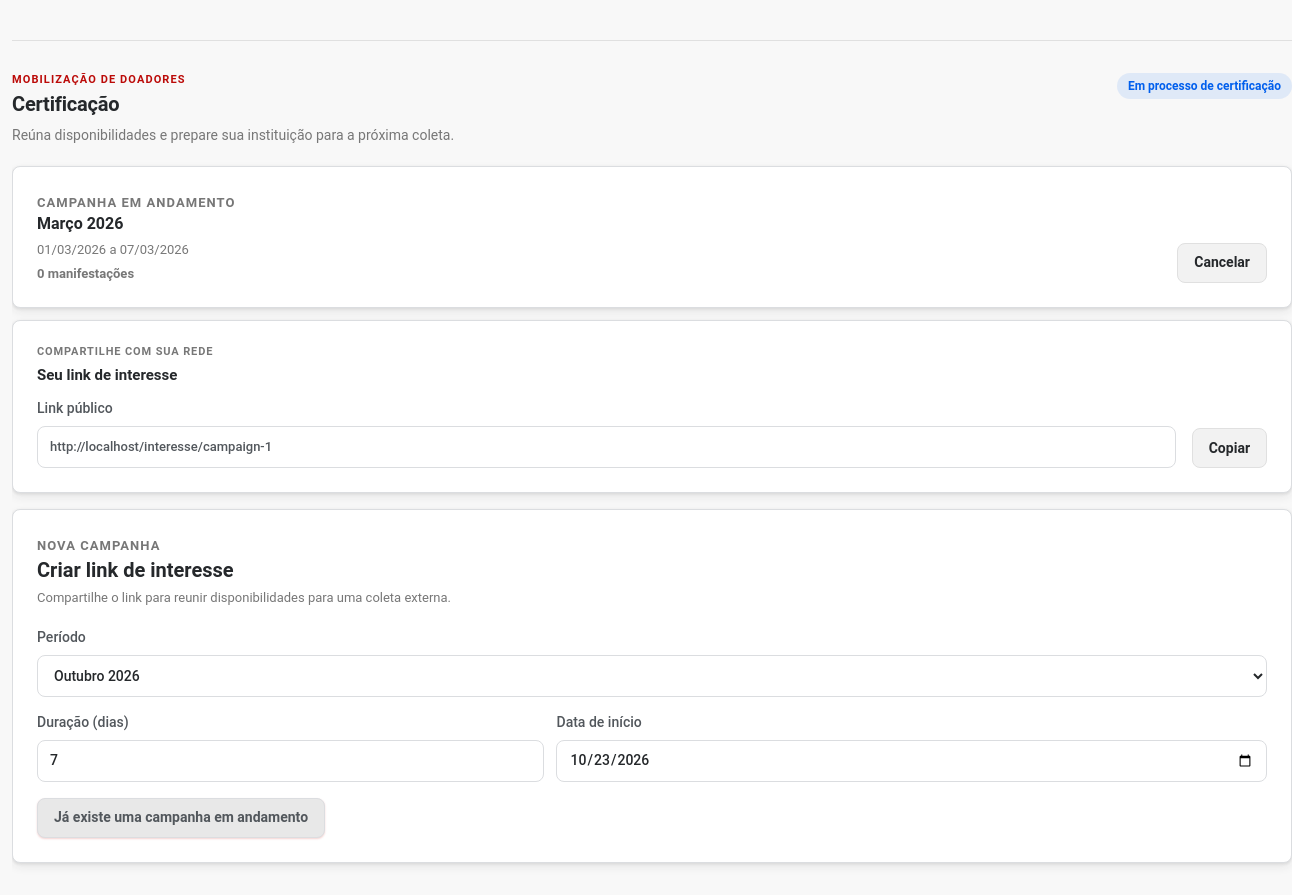
Test: CertificationSection › clears the active campaign and re-enables the create button after cancelling
The image size is (1292, 895).
Expected: the submit button is disabled, [37,798,325,838]
Click the button "Cancelar" at {"x": 1222, "y": 263}, box [1177,243,1267,283]
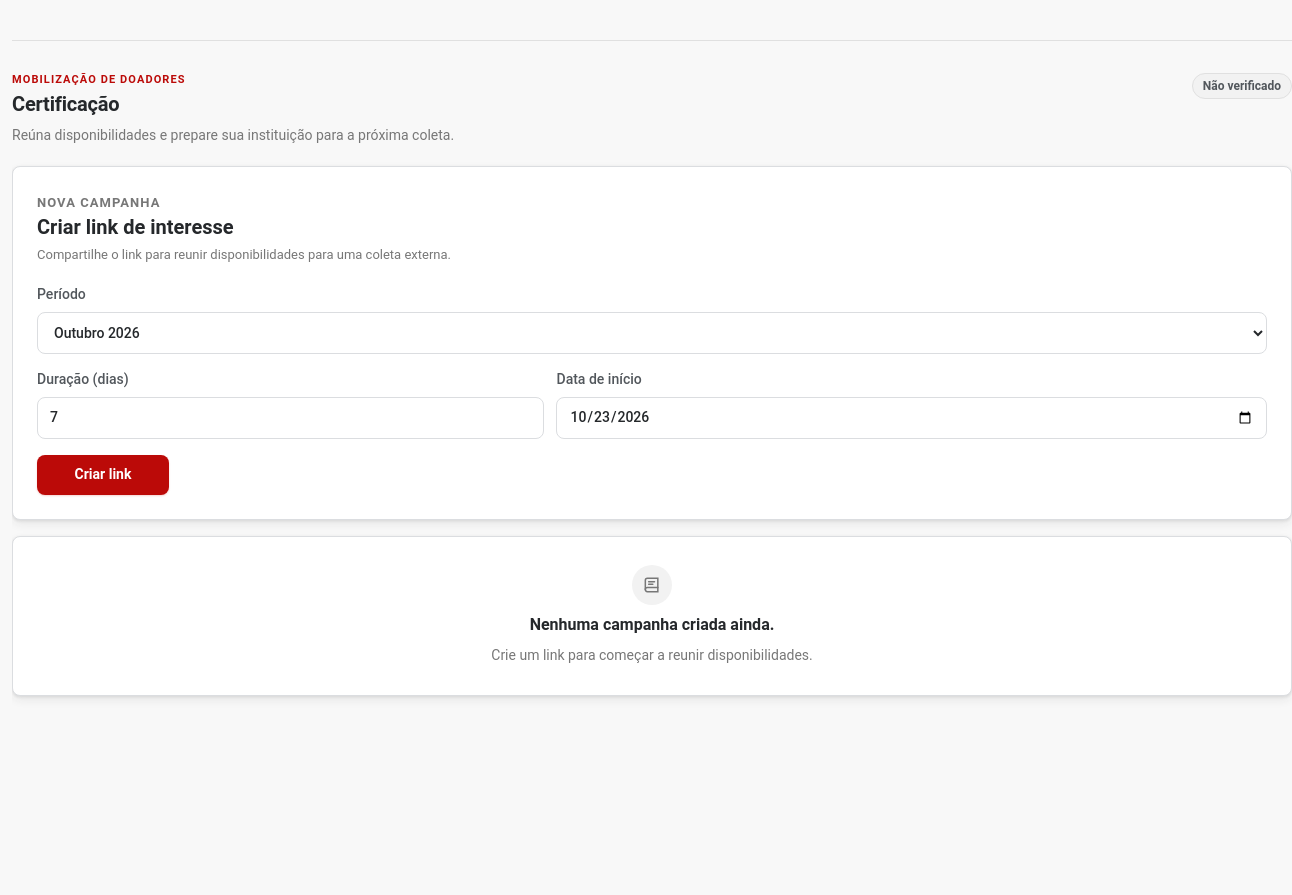
Expected: the submit button is enabled, [37,455,169,495]
Expected: the submit button reads "Criar link", [37,455,169,495]
